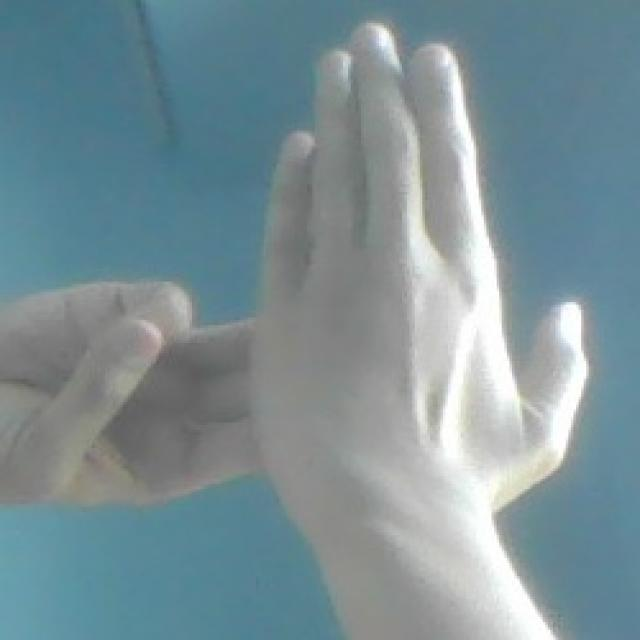Alphabet-M: (2, 16, 590, 569)
